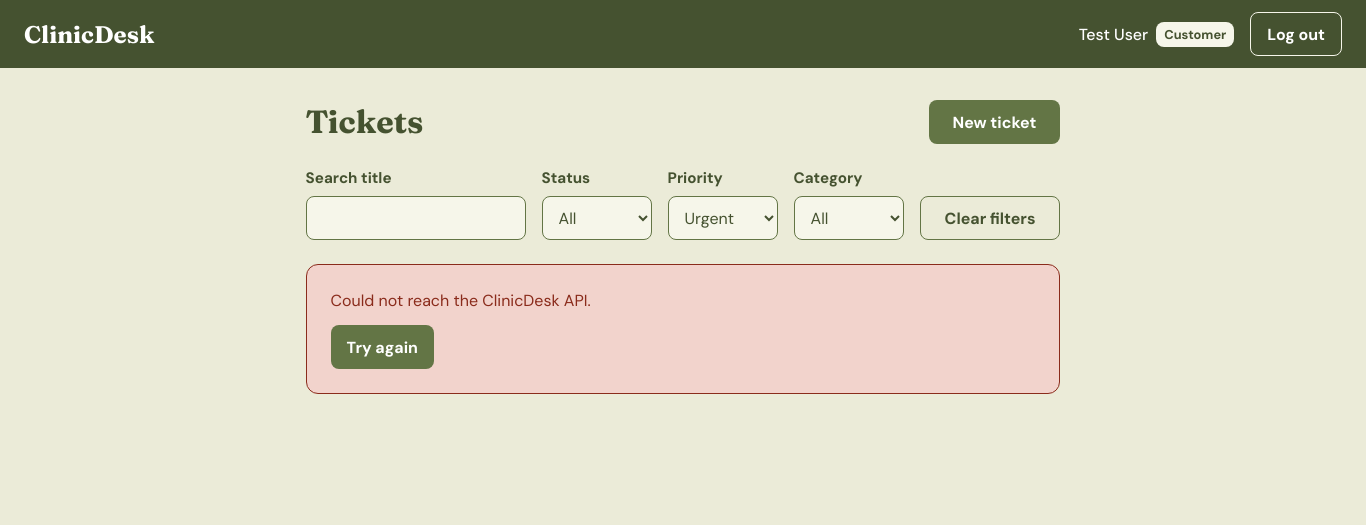
Scenario: clear filters and empty states › shows an error with retry that keeps the filters
Click the button "Try again": [382, 347] box [331, 325, 434, 369]
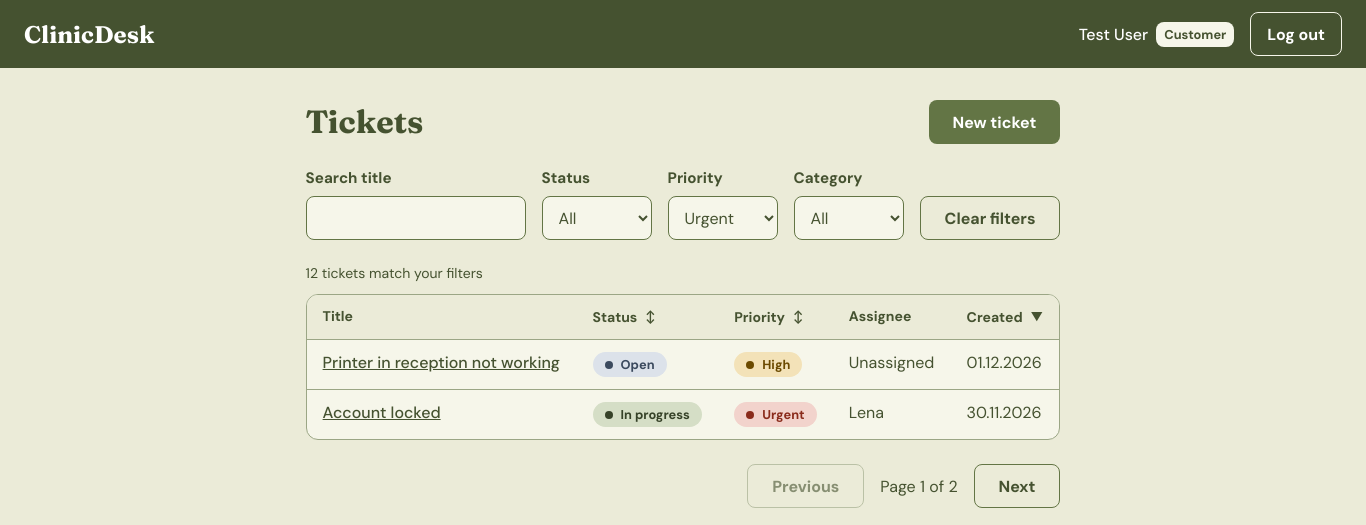
Check: the table is shown, box [307, 295, 1059, 439]
